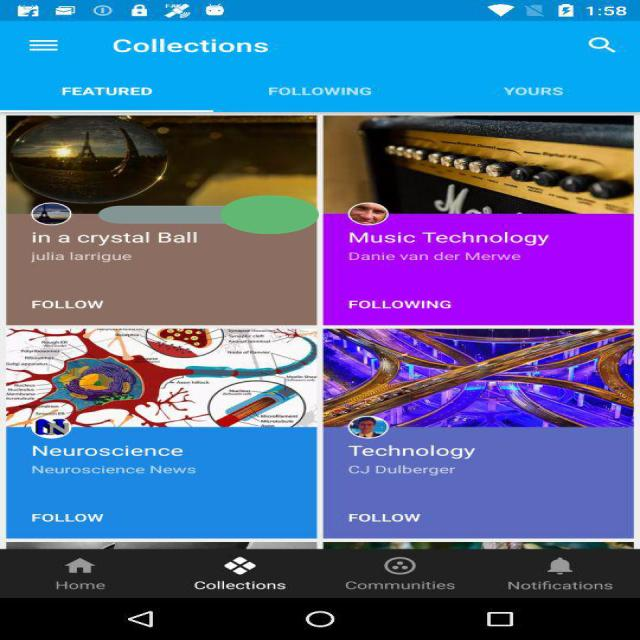social proof: (98, 171, 319, 258)
